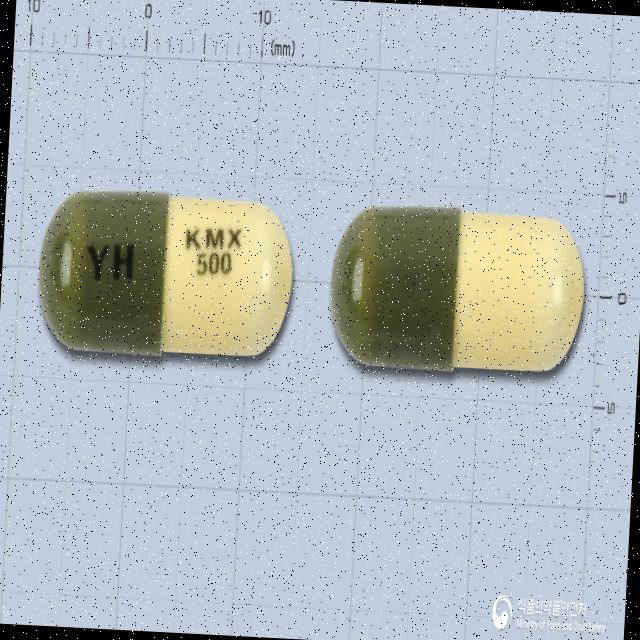Kymoxin Cap-500mg: (327, 202, 589, 380), (35, 186, 296, 364)
